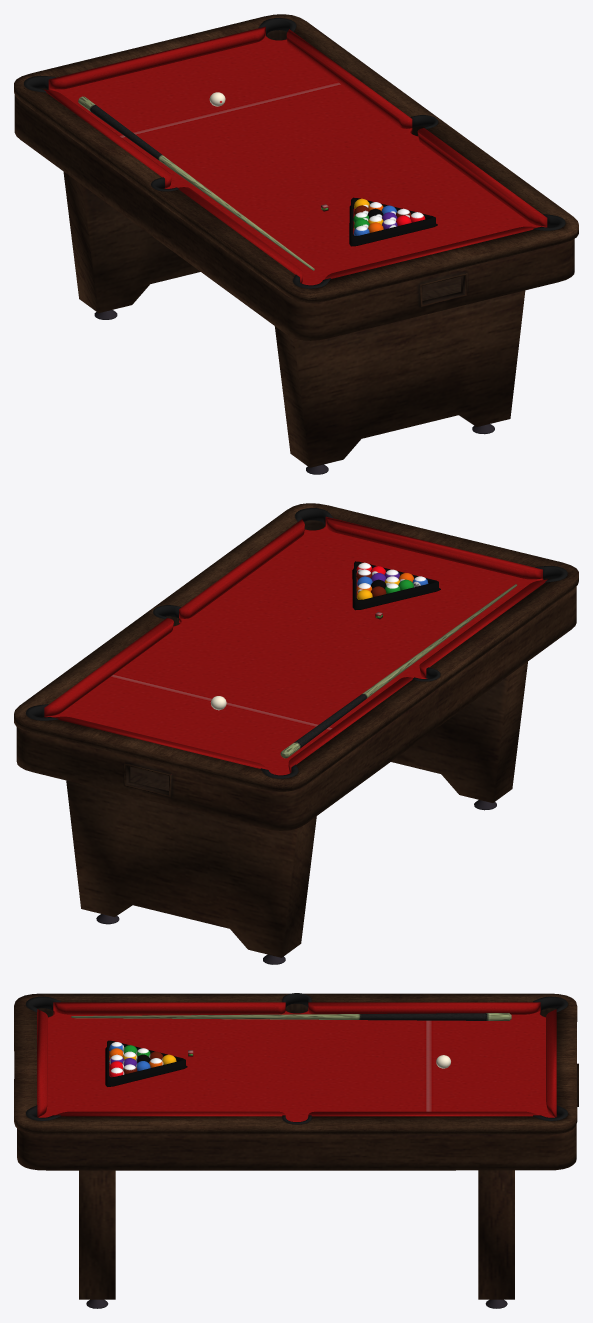
File: pooltable.glb
3 renders of one model, top to bottom at view 1: azimuth 30°, elevation 25°; view 2: azimuth 150°, elevation 25°; view 3: azimuth 270°, elevation 25°, orthographic. The views are drawn at different scales.
Parts seen in each view (by area): view 1: Object_2; view 2: Object_2; view 3: Object_2.
Part boxes in pixels (x1,y1,x2,y2): Object_2: (14, 14, 578, 474); Object_2: (14, 503, 578, 964); Object_2: (14, 993, 578, 1308).
Bounding box in the file's own units: 1.01 × 0.7471 × 1.82.
Materials: 1 (1 with a texture image).
